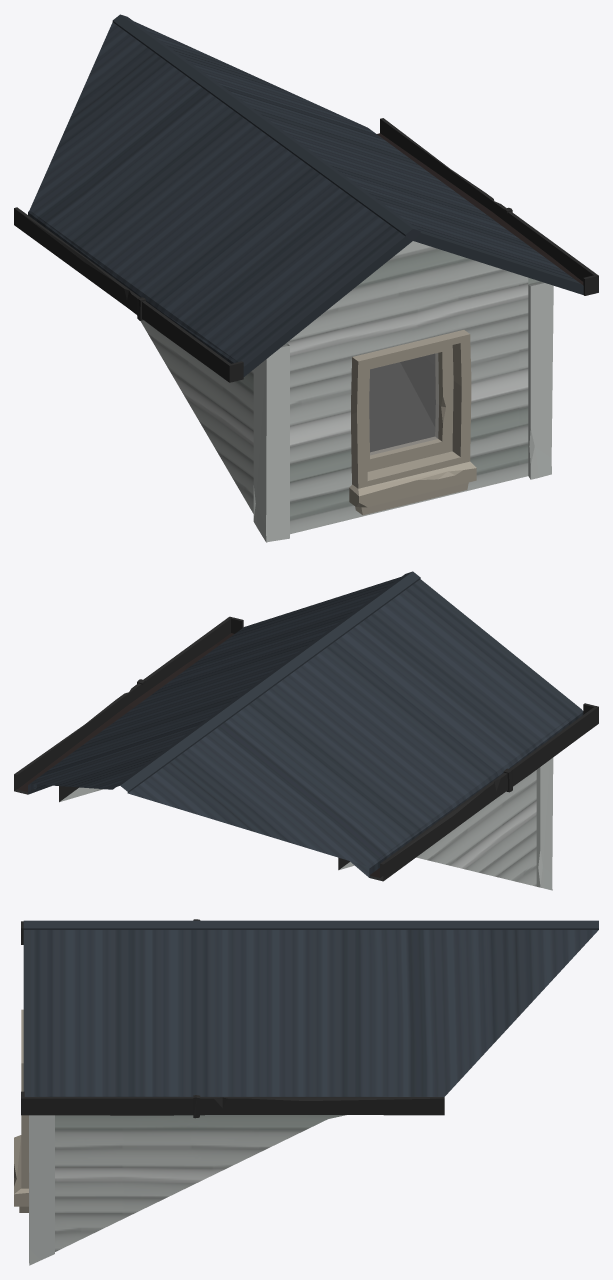
File: SM_Bld_House_Roof_Window_01.fbx
3 views of the same model, one above another, from view 1: azimuth 30°, elevation 25°; view 2: azimuth 150°, elevation 25°; view 3: azimuth 270°, elevation 25° (orthographic).
Parts seen in each view (by area): view 1: SM_Bld_House_Roof_Window_01, SM_Bld_House_Window_Glass_01; view 2: SM_Bld_House_Roof_Window_01; view 3: SM_Bld_House_Roof_Window_01.
Part boxes in pixels (left/top/right/bottom): SM_Bld_House_Roof_Window_01: left=14, top=14, right=598, bottom=542; SM_Bld_House_Window_Glass_01: left=369, top=353, right=438, bottom=455; SM_Bld_House_Roof_Window_01: left=14, top=571, right=598, bottom=890; SM_Bld_House_Roof_Window_01: left=14, top=919, right=598, bottom=1265.
Size of the model in its own units: 387 by 280 by 536.
